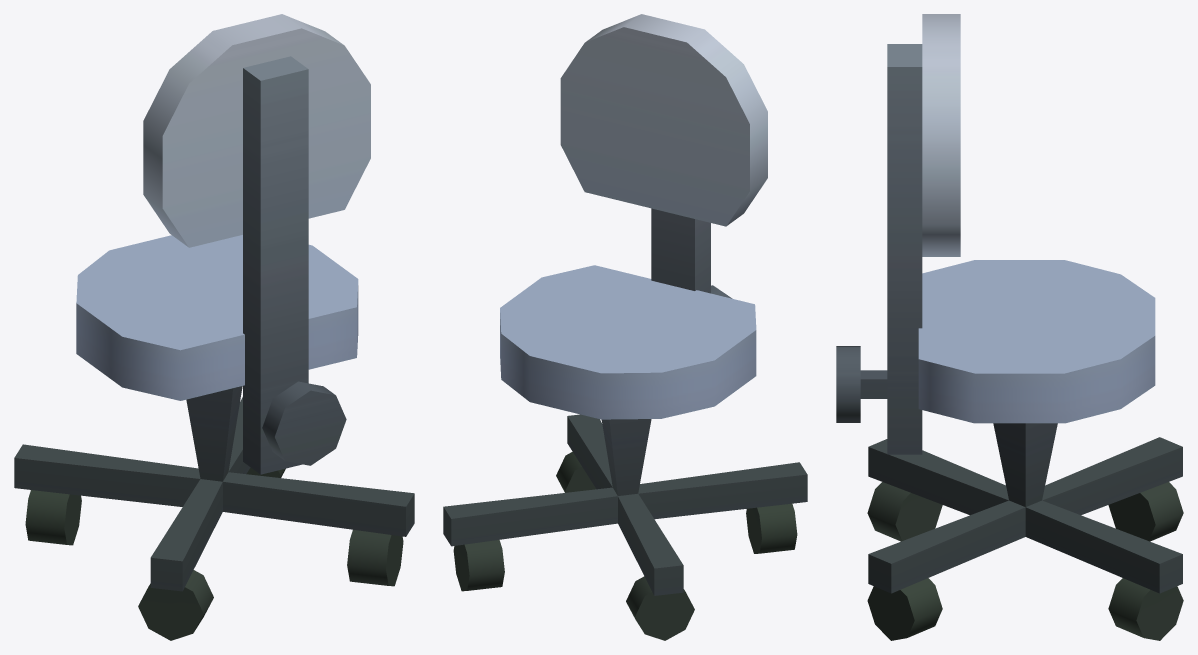
File: chair.fbx
3 views of the same model, side by side, from view 1: azimuth 30°, elevation 25°; view 2: azimuth 150°, elevation 25°; view 3: azimuth 270°, elevation 25° (orthographic). The views are drawn at different scales.
Visible parts, largest first — view 1: silla; view 2: silla; view 3: silla.
Part boxes in pixels (bbox=[...]): silla: bbox=[14, 14, 414, 640]; silla: bbox=[443, 14, 807, 640]; silla: bbox=[836, 14, 1183, 640].
Size of the model in its own units: 44.28 by 90.08 by 50.97.
